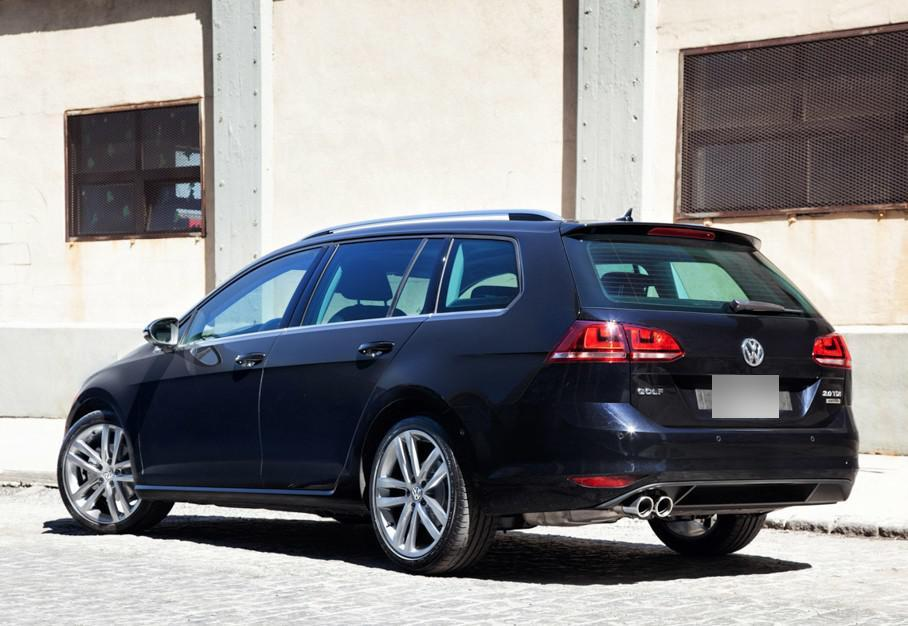Wagon: (57, 209, 860, 574)
